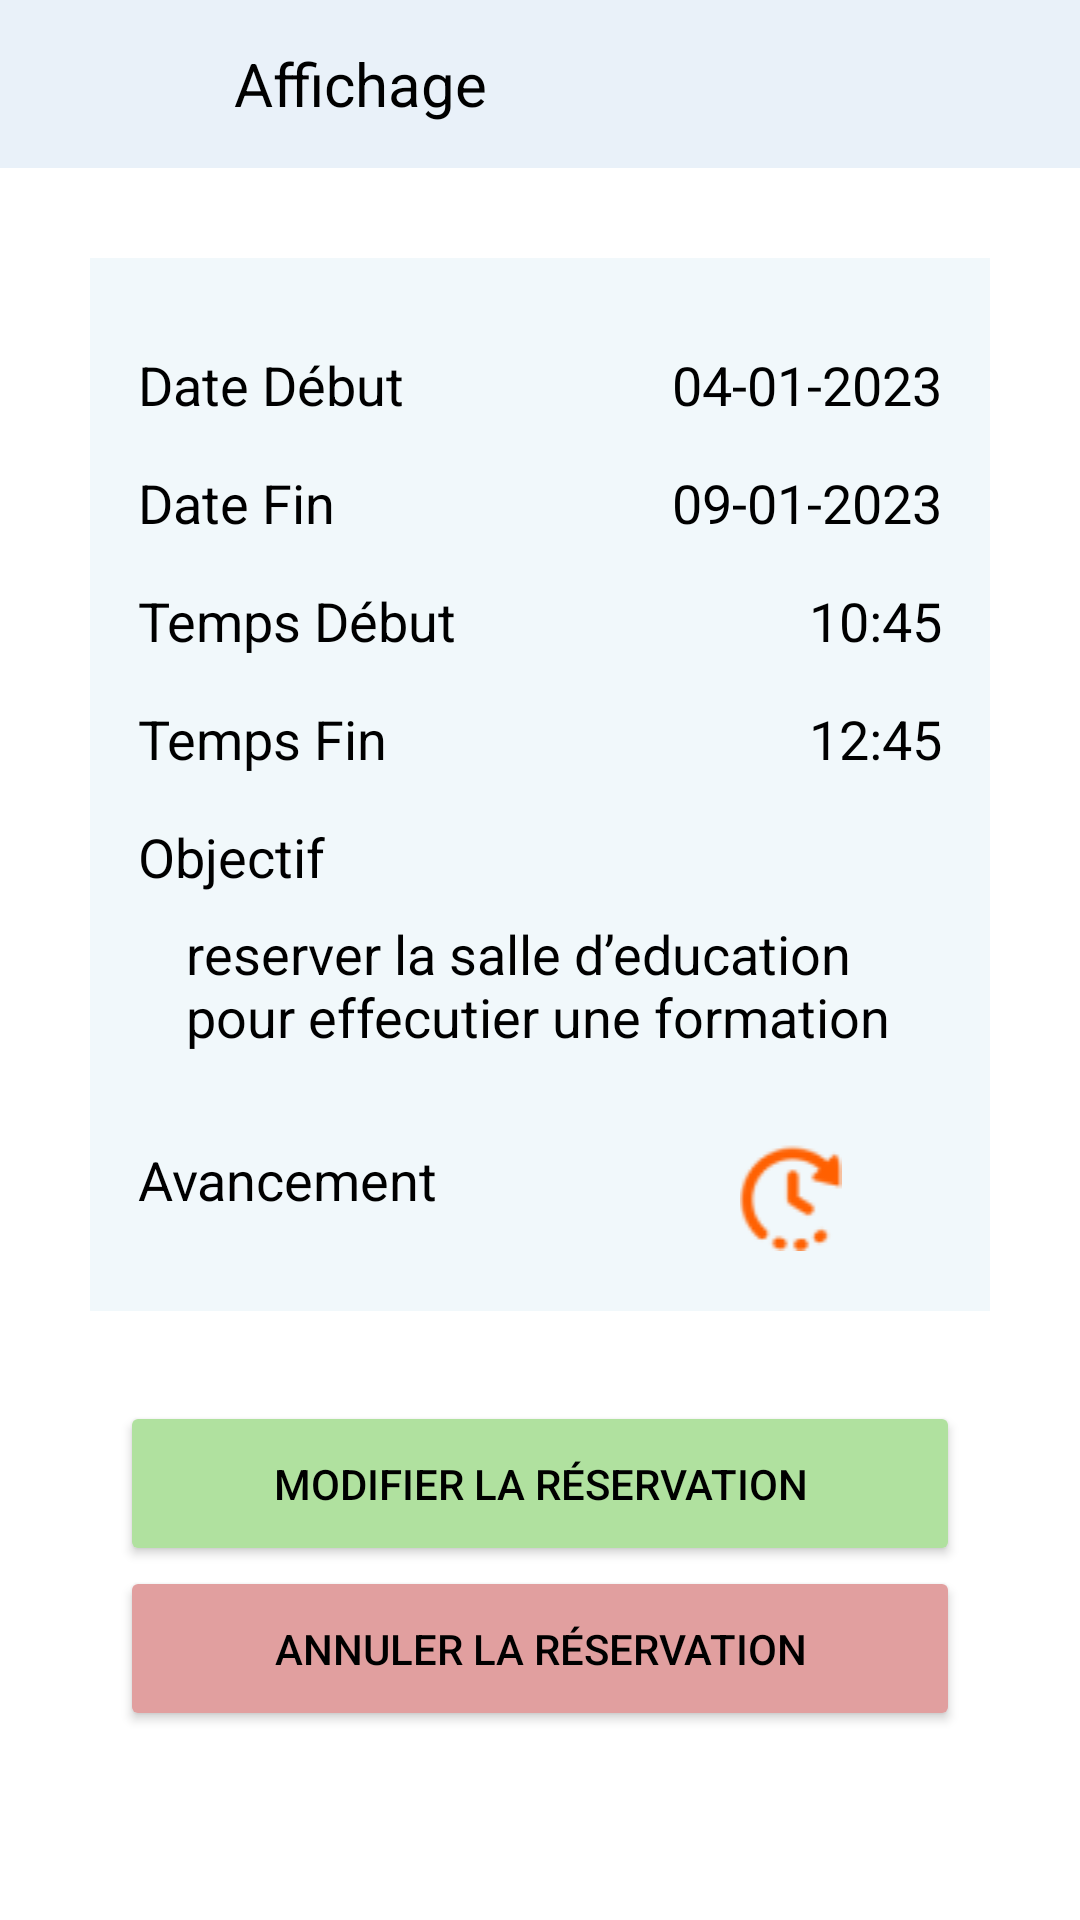

Icons on this 1080w x 1920h Android screen, each with the point to tap as [x,y]:
enattente: [791,1198]
